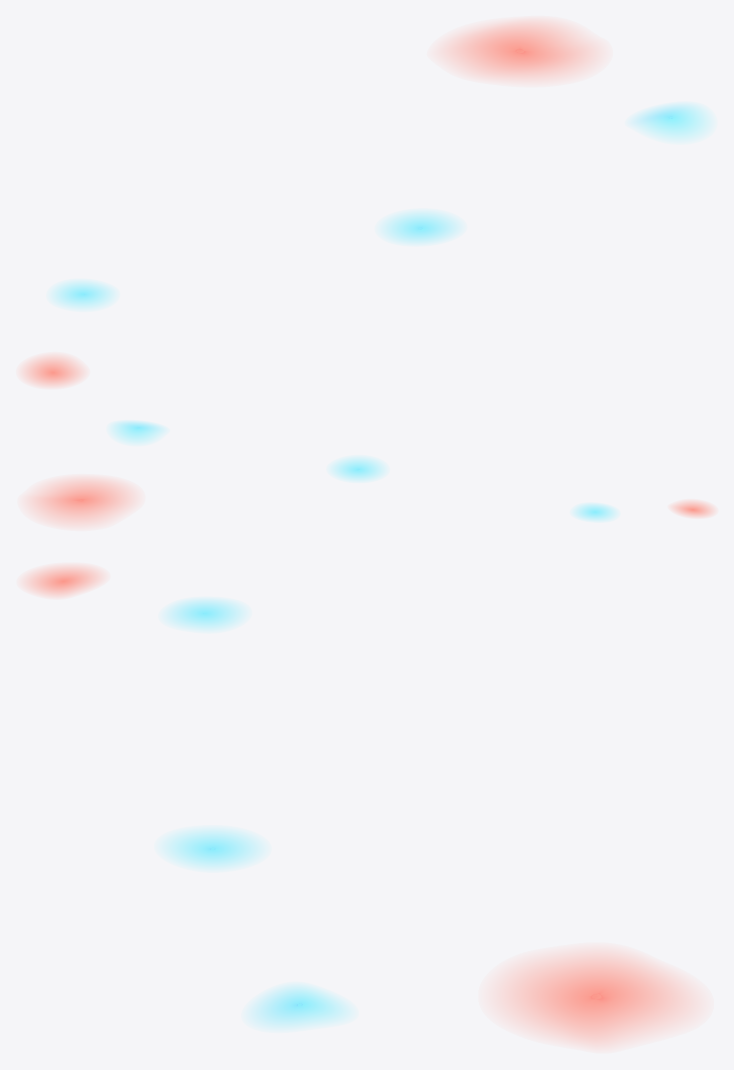
File: glows.glb
3 views of the same model, one above another, from view 1: azimuth 30°, elevation 25°; view 2: azimuth 150°, elevation 25°; view 3: azimuth 270°, elevation 25° (orthographic). The views are drawn at different scales.
Visible parts, largest first — view 1: Glow_Vetagrande_Red, Glow_LaBufa_Federal_Blue, Glow_Cathedral_Federal_Blue, Glow_ElGrillo_Assault_Red, Glow_ElGrillo_Federal_Blue; view 2: Glow_Vetagrande_Red, Glow_Cathedral_Federal_Blue, Glow_LaBufa_Federal_Blue, Glow_ElGrillo_Federal_Blue, Glow_ElGrillo_Assault_Red; view 3: Glow_Vetagrande_Red, Glow_LaBufa_Federal_Blue, Glow_Cathedral_Federal_Blue, Glow_ElGrillo_Federal_Blue, Glow_ElGrillo_Assault_Red.
Boxes of the visible parts, x1,y1,x2,y2 form: Glow_Vetagrande_Red: (445, 21, 594, 79); Glow_LaBufa_Federal_Blue: (634, 104, 708, 138); Glow_Cathedral_Federal_Blue: (383, 212, 458, 242); Glow_ElGrillo_Assault_Red: (23, 356, 82, 386); Glow_ElGrillo_Federal_Blue: (53, 281, 112, 307); Glow_Vetagrande_Red: (30, 478, 132, 524); Glow_Cathedral_Federal_Blue: (332, 458, 383, 480); Glow_LaBufa_Federal_Blue: (112, 421, 163, 442); Glow_ElGrillo_Federal_Blue: (574, 504, 615, 520); Glow_ElGrillo_Assault_Red: (672, 501, 713, 516); Glow_Vetagrande_Red: (501, 952, 690, 1044); Glow_LaBufa_Federal_Blue: (253, 986, 347, 1027); Glow_Cathedral_Federal_Blue: (165, 830, 259, 867); Glow_ElGrillo_Federal_Blue: (167, 599, 242, 629); Glow_ElGrillo_Assault_Red: (26, 566, 101, 595).
Size of the model in its own units: 1128 by 28.61 by 684.
Materials: 2 (2 with a texture image).
